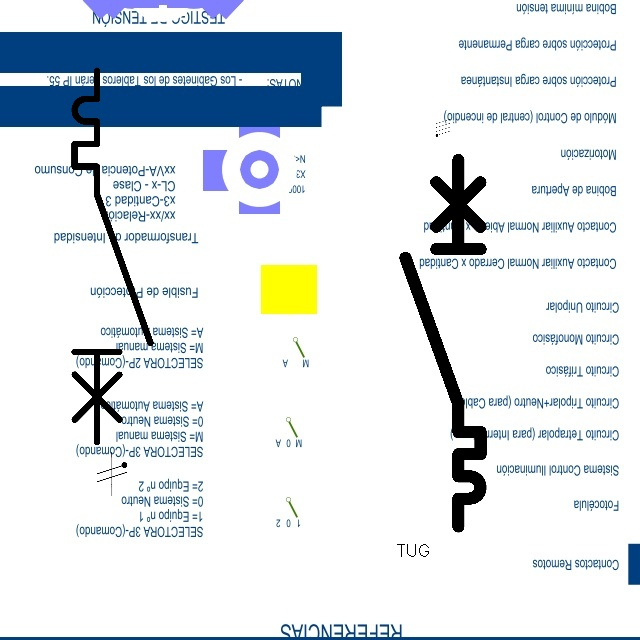interruptor_termomagnetico: (65, 61, 160, 452), (396, 150, 490, 535)
